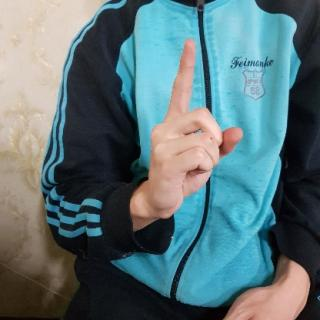RAA: (139, 35, 248, 221)
